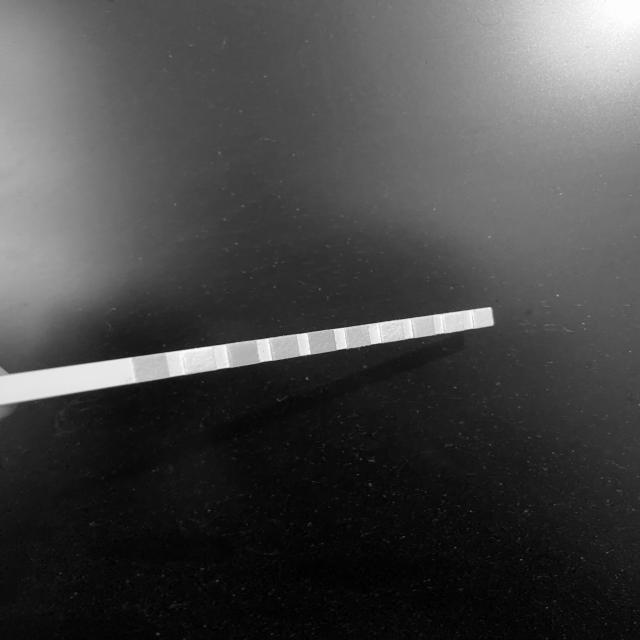Bilirubin: (185, 350, 213, 370)
Blood: (311, 332, 334, 351)
Glucose: (136, 357, 166, 378)
Ketone: (230, 344, 257, 364)
Leukocytes: (474, 310, 492, 326)
Nitrite: (445, 313, 462, 331)
Protein: (382, 322, 402, 340)
SpGravity: (273, 337, 297, 357)
Urobilinogen: (414, 318, 433, 335)
background: (0, 0, 640, 640)
pH: (348, 327, 368, 345)
strip: (4, 307, 494, 404)
